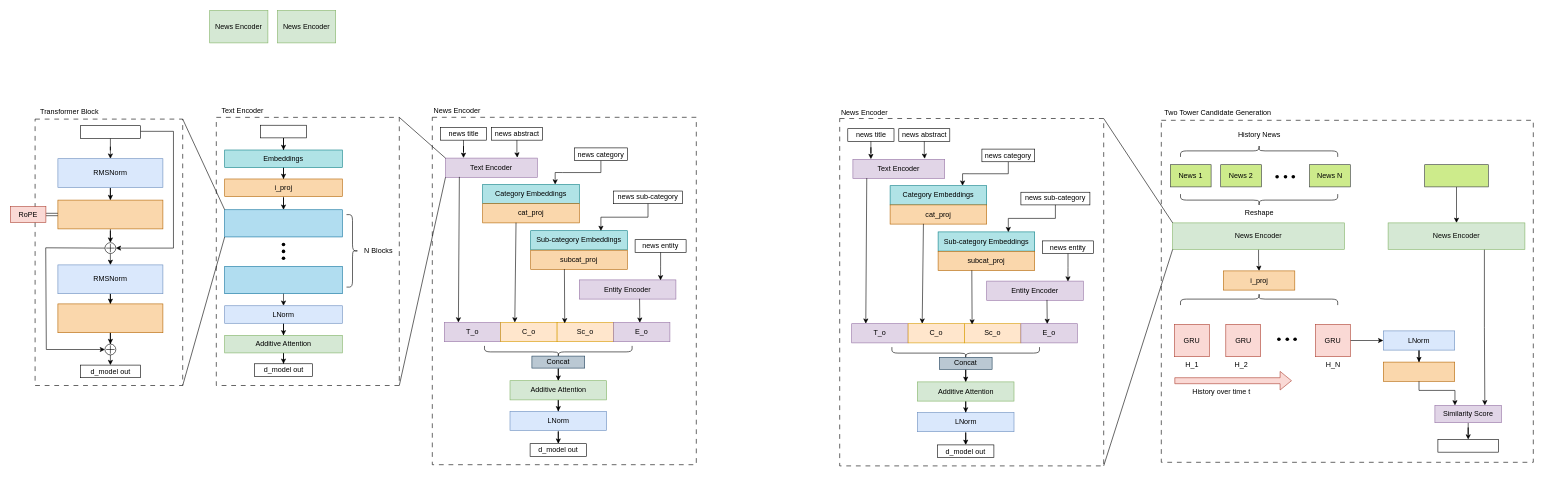
The diagram is 1544 pixels wide and 477 high, and some of its shapes have lost their labels. The centre of each missing label's shape, as x and y in pixels:
Candidate News: point 1456,175
Candidate score: point 1467,445
d_model in: point 110,131
FFN (SwiGLU): point 110,318
Multi-Head Attention: point 110,214
o_proj: point 1419,371
token in: point 283,131
Transformer Block 1: point 283,223
Transformer Block N: point 283,280
